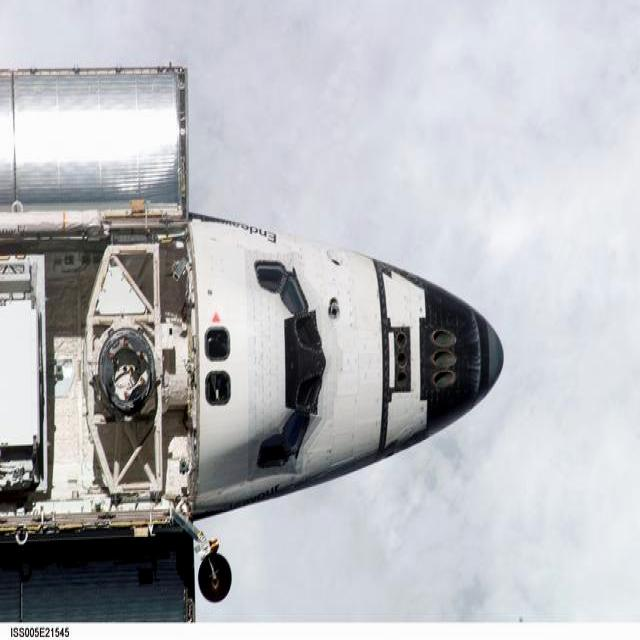medium_debris: (0, 68, 502, 621)
